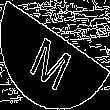M_NE: (30, 22, 80, 88)
